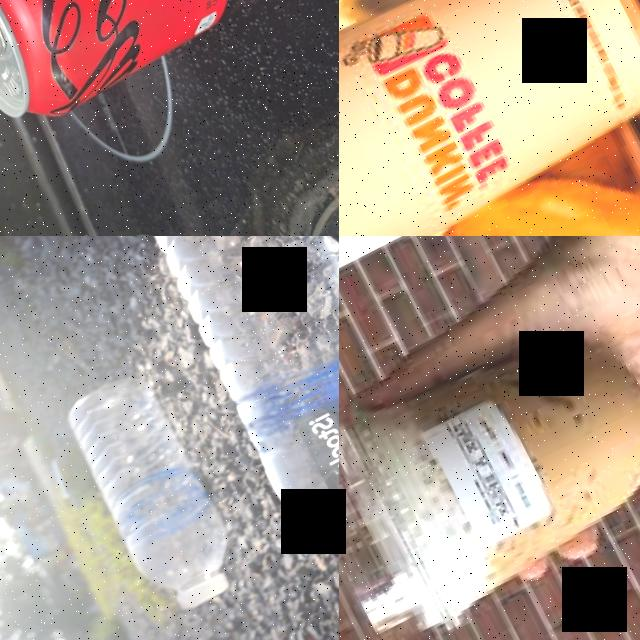bottle: (134, 236, 339, 580)
can: (0, 0, 261, 145)
cup: (339, 282, 640, 640), (339, 0, 640, 236)
